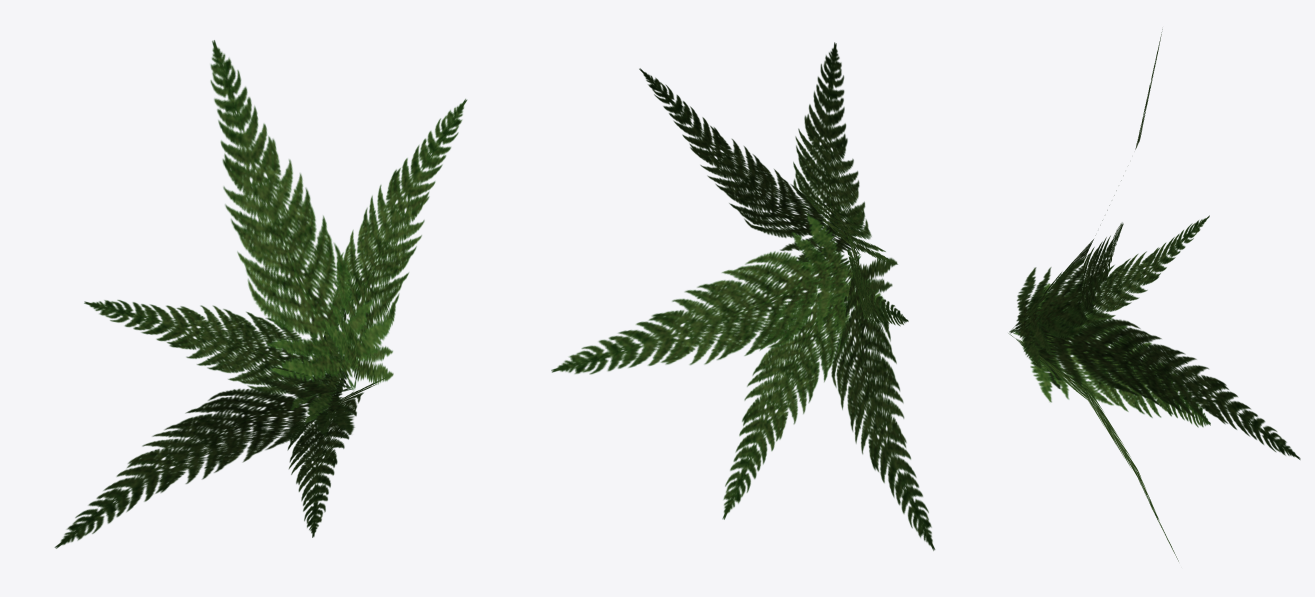
File: fern_LOD60.glb
3 views of the same model, side by side, from view 1: azimuth 30°, elevation 25°; view 2: azimuth 150°, elevation 25°; view 3: azimuth 270°, elevation 25° (orthographic). The views are drawn at different scales.
Visible parts, largest first — view 1: vegetation_1.png__; view 2: vegetation_1.png__; view 3: vegetation_1.png__.
Boxes of the visible parts, left/top/right/bottom form: vegetation_1.png__: left=54, top=40, right=467, bottom=548; vegetation_1.png__: left=551, top=42, right=935, bottom=550; vegetation_1.png__: left=1008, top=29, right=1300, bottom=561.
Size of the model in its own units: 5.64 by 6.79 by 3.59.
Materials: 1 (1 with a texture image).
